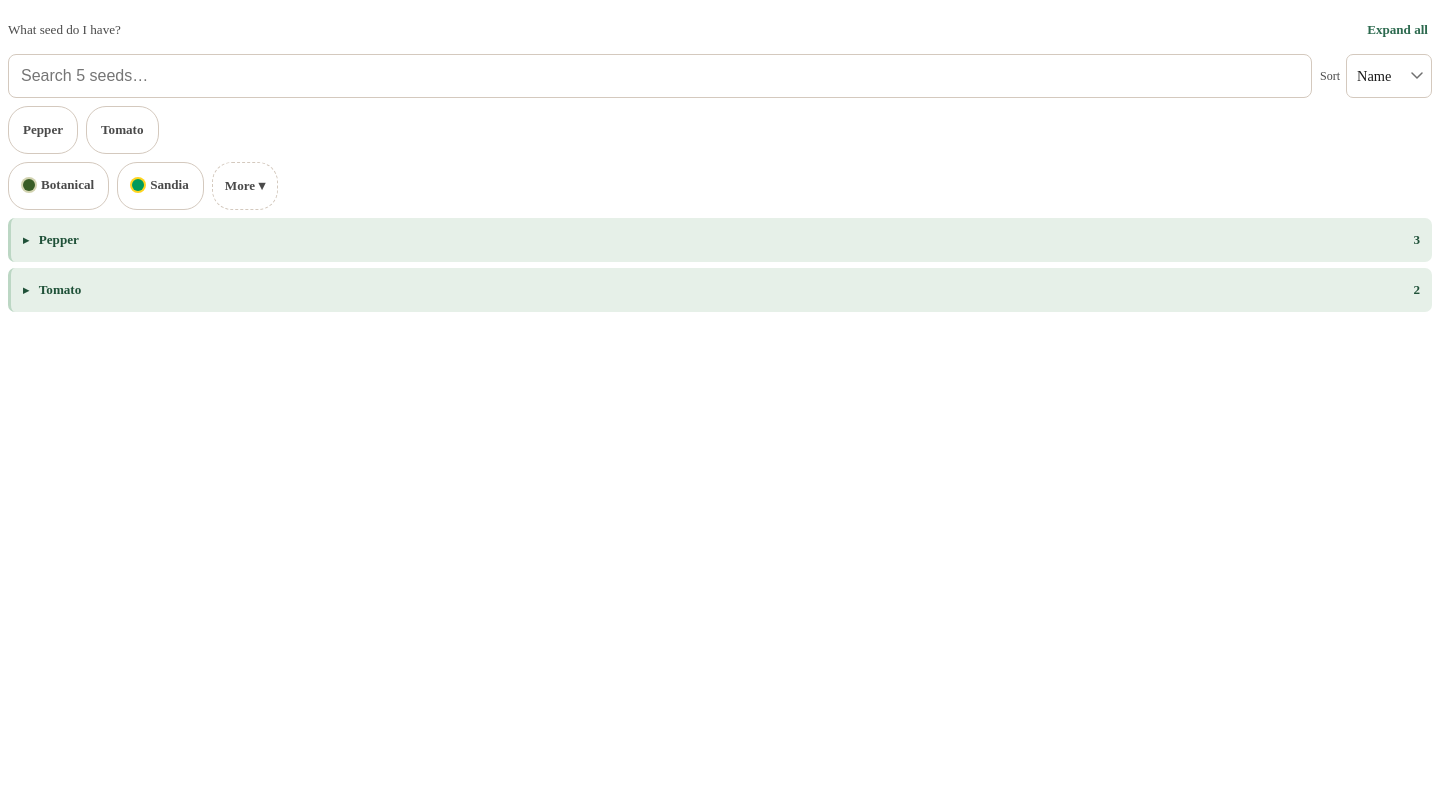
Scenario: My seeds — filtering and sorting › a supplier chip filters to that supplier and opens its groups; chips OR with each other
This screenshot has width=1440, height=810.
Expected: the element with test id "my-seeds-view" is shown, x1=8 y1=8 x2=1432 y2=312
Click the button "Sandia": (160, 186) x1=117 y1=162 x2=204 y2=210
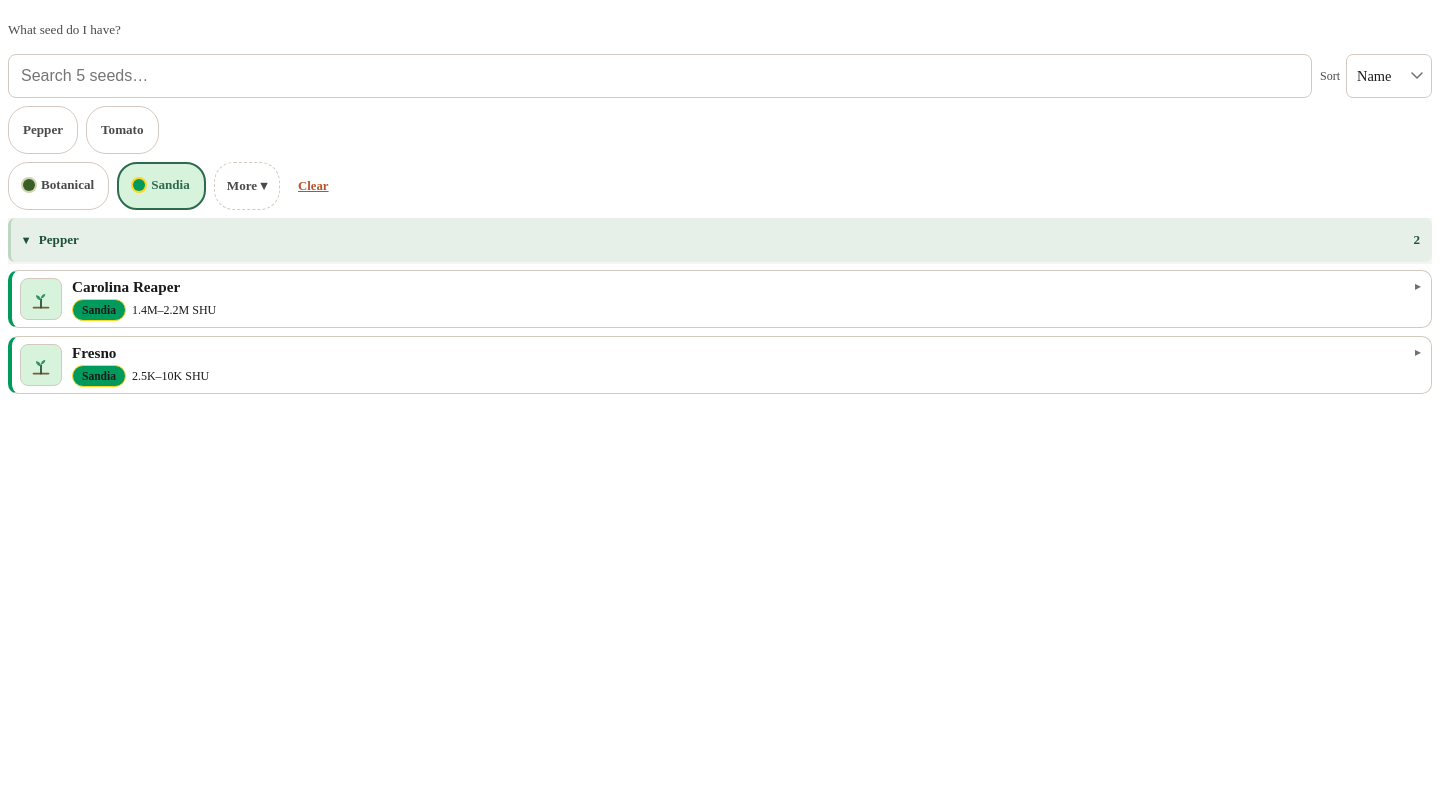
Click the button "Botanical": (59, 186) x1=8 y1=162 x2=109 y2=210
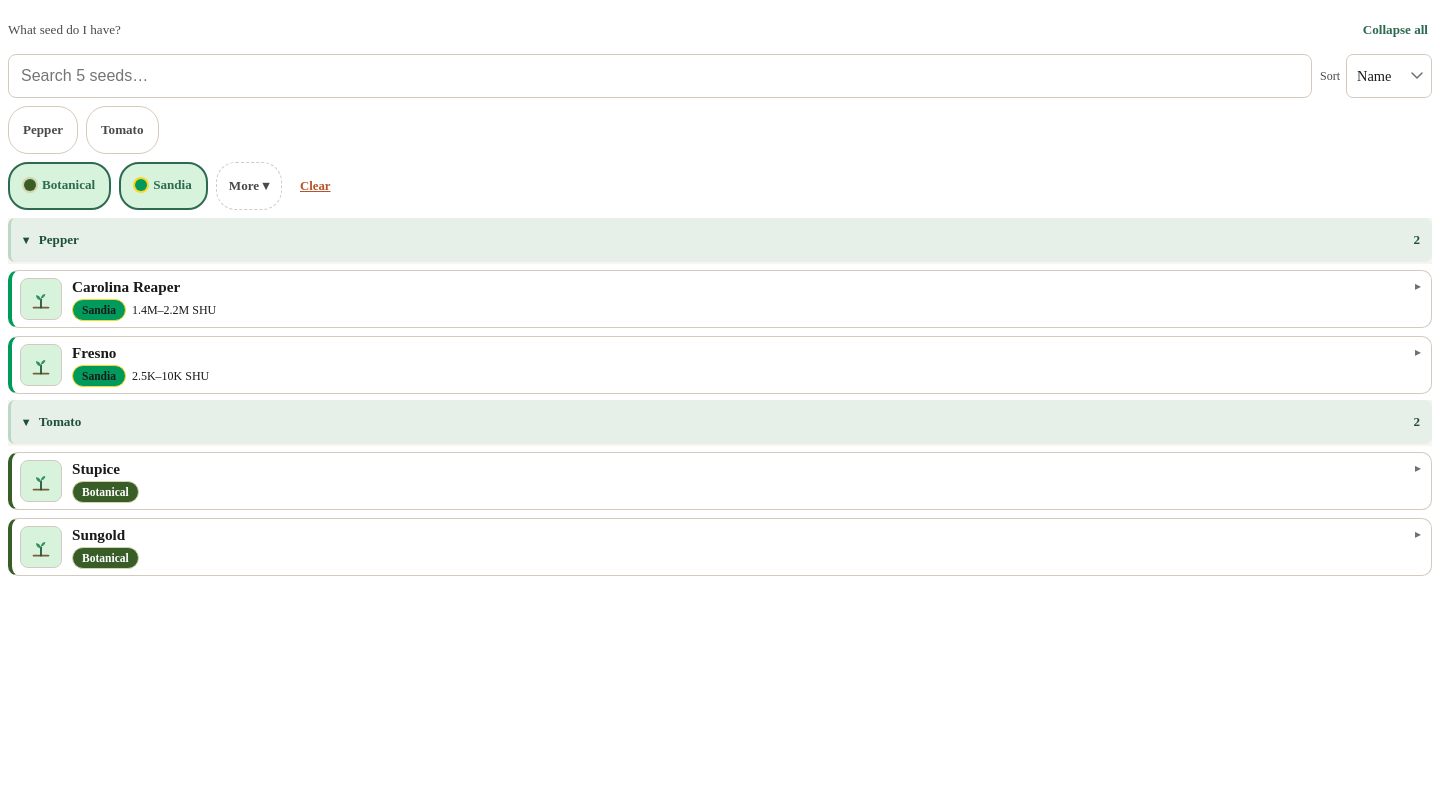
Now the number of elements with test id "my-seed-row" is 4, box x1=8 y1=270 x2=1432 y2=328; x1=8 y1=336 x2=1432 y2=394; x1=8 y1=452 x2=1432 y2=510; x1=8 y1=518 x2=1432 y2=576
